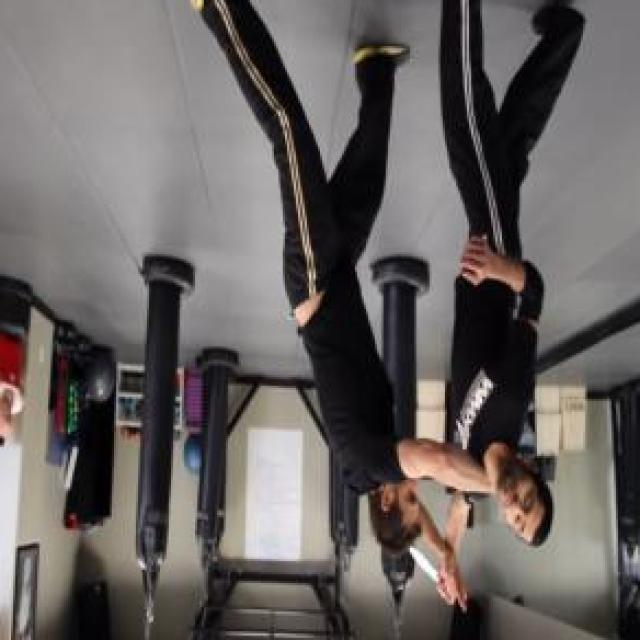knife: (406, 544, 458, 610)
